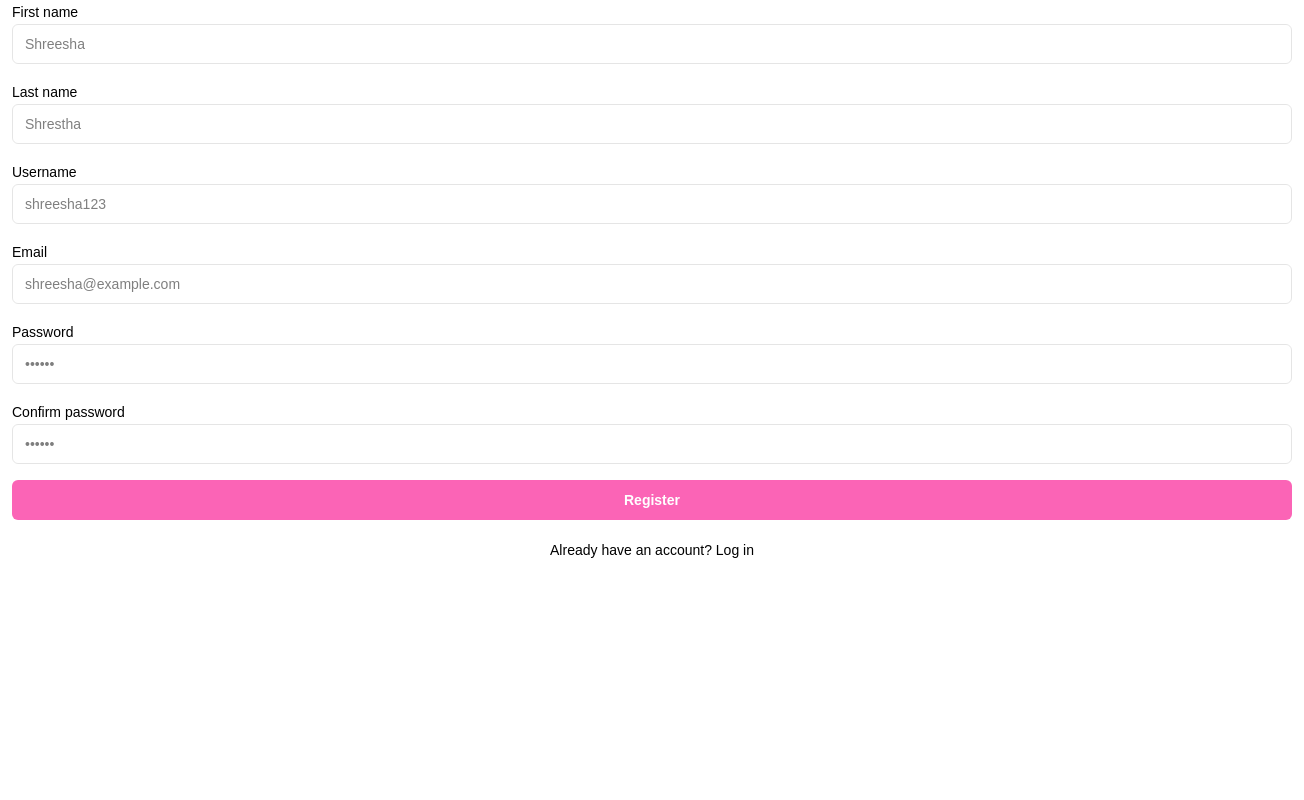
RegisterForm › should show validation error for empty form
Step 1. Click the button "Register" → (652, 500), box [12, 480, 1292, 520]
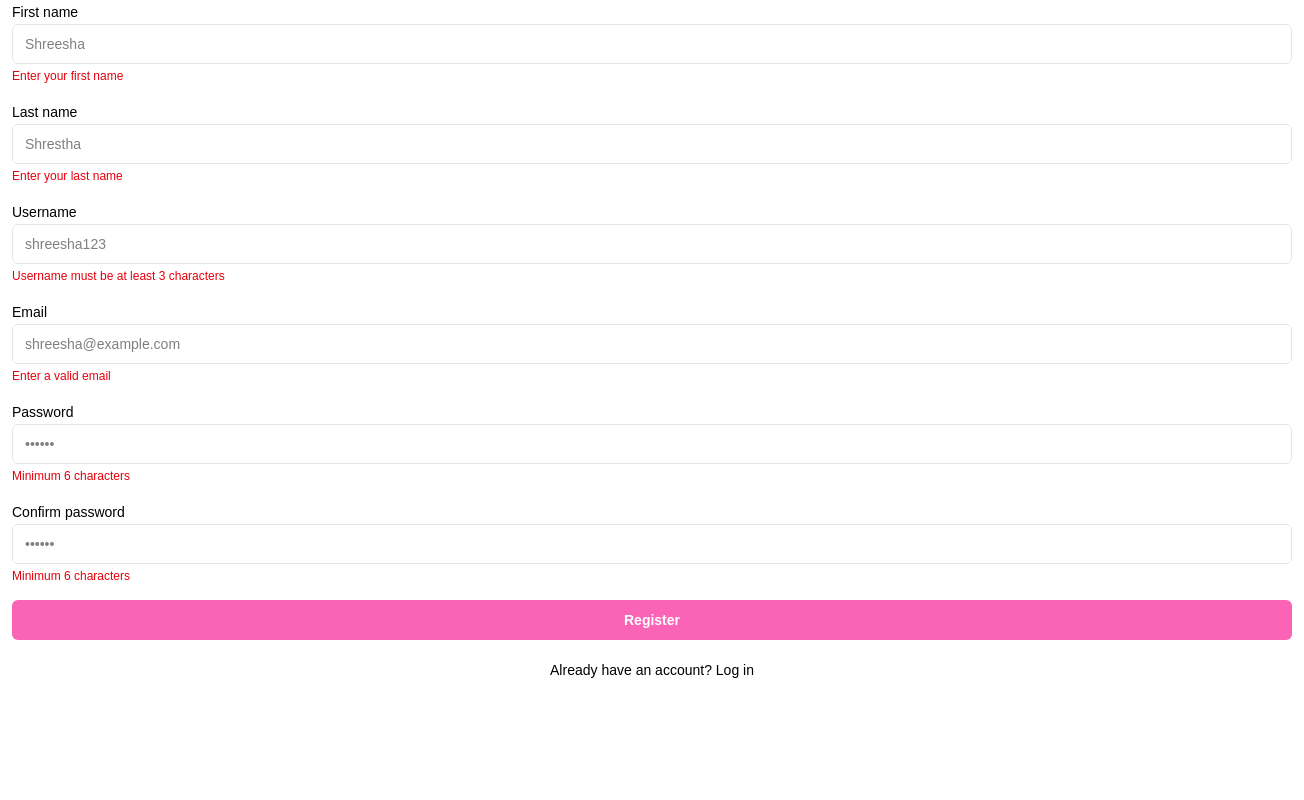
Result: the text "Enter your first name" is shown at [12, 69, 123, 83]
